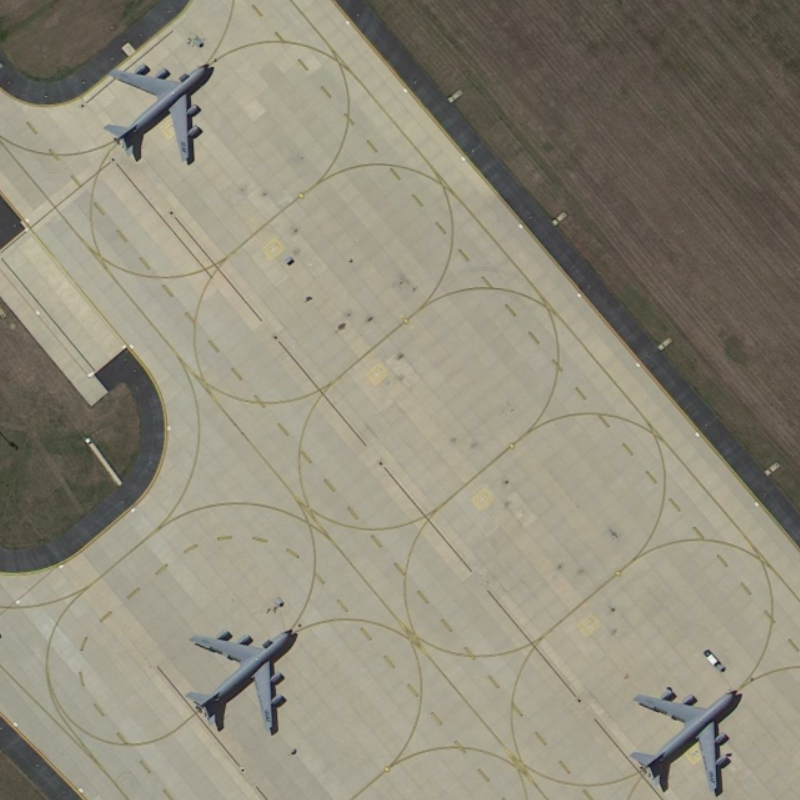A14: (623, 674, 749, 800), (183, 620, 303, 743), (97, 49, 214, 169)
